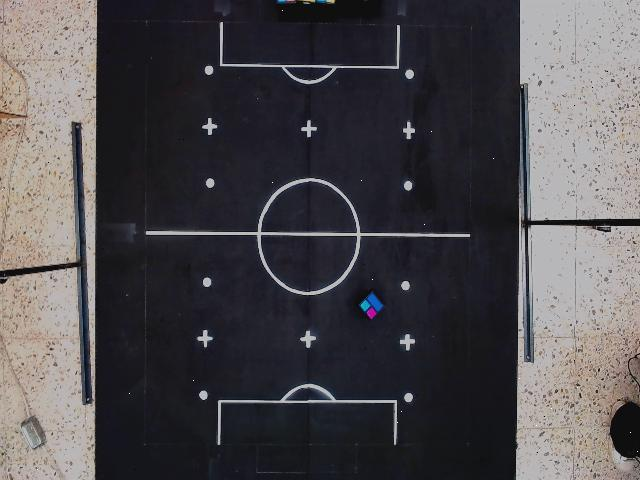robot: (357, 290, 386, 321)
